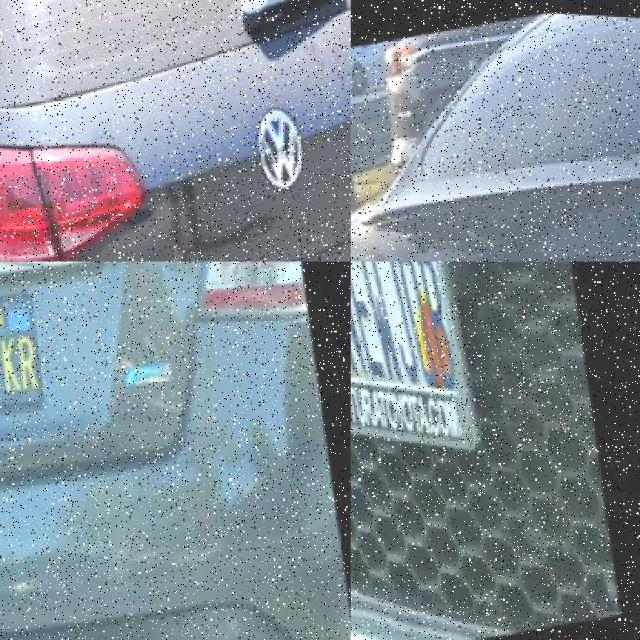licenseplate: (351, 262, 520, 483), (0, 276, 85, 424)
